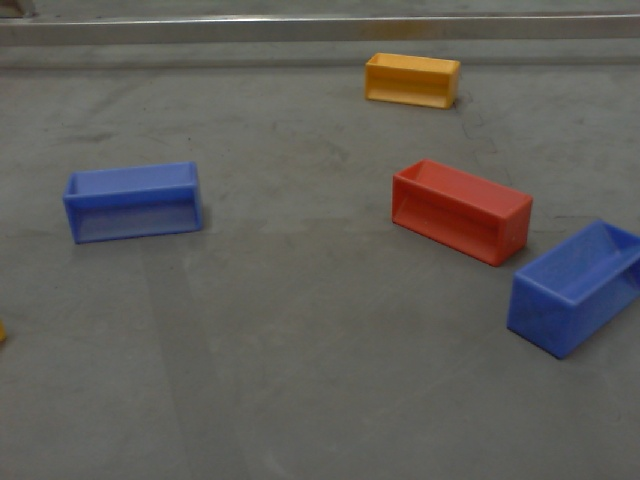BlueSample: (502, 210, 639, 365), (58, 158, 210, 248)
RedSample: (387, 152, 536, 269)
YellowSample: (359, 47, 464, 116)
